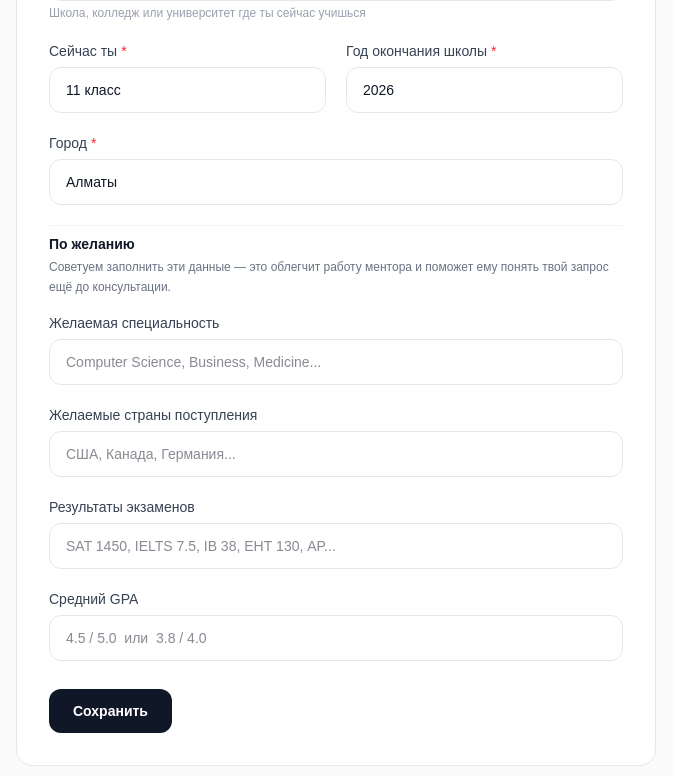
it: StudentProfilePage (app/students/profile) › authenticated student › shows a field-level error returned by the backend under the offending field
The image size is (673, 776).
(page scrolled)
Click the button "Сохранить" at (110, 711), box [49,689,172,733]
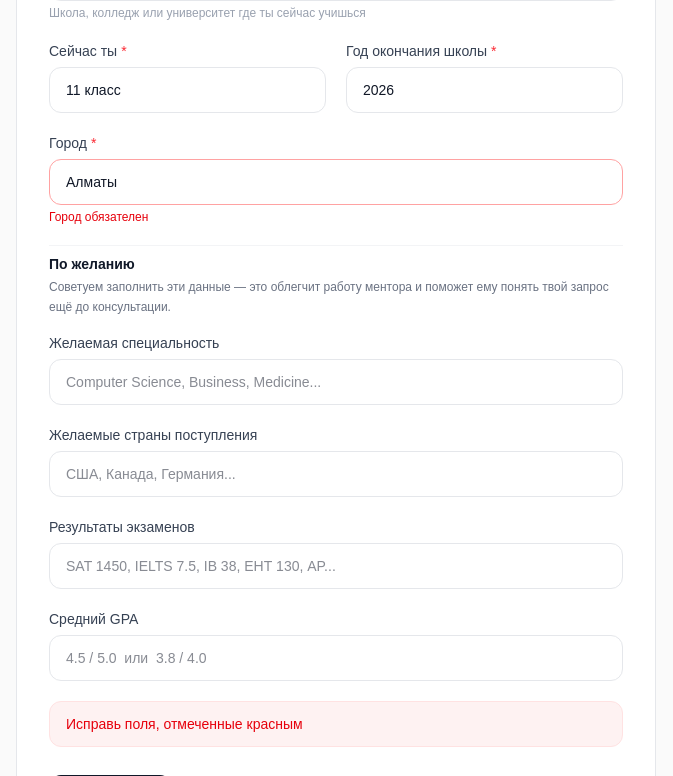
Expected: the text "Город обязателен" is shown, [49,210,148,224]
Expected: the text "Исправь поля, отмеченные красным" is shown, [49,701,623,747]
